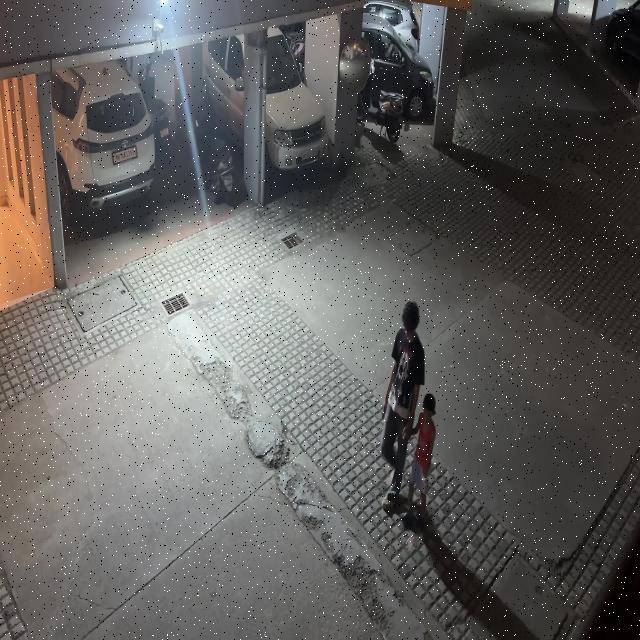garbage_dumping: (402, 520, 417, 557)
